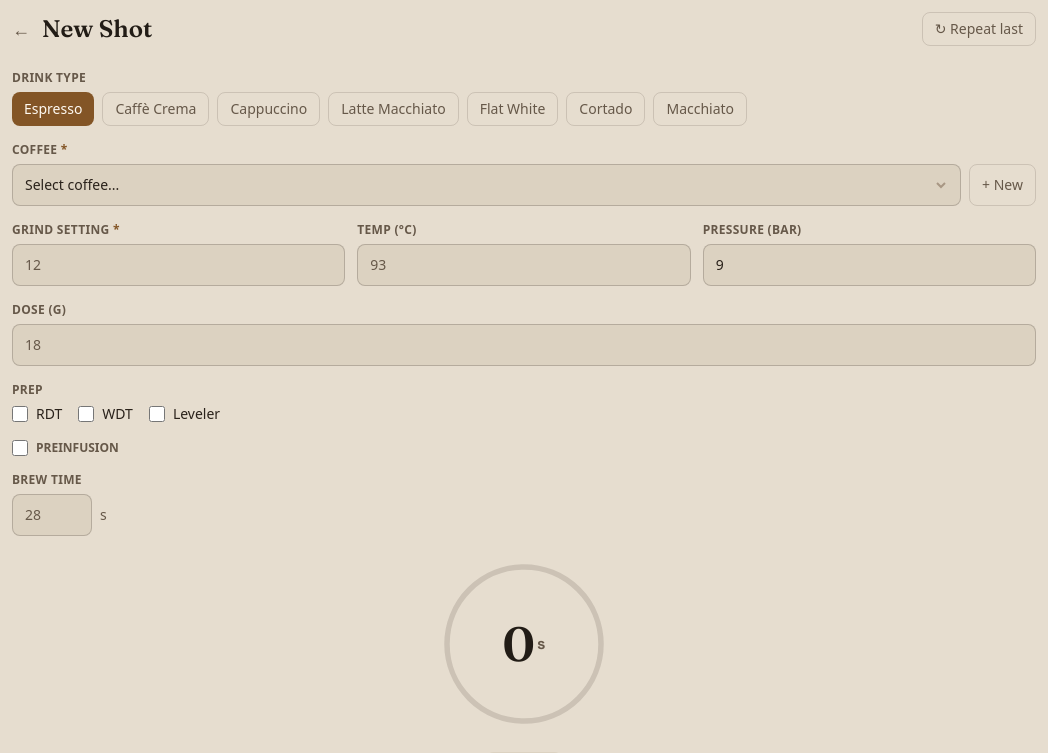
choosing a coffee prefills grind from that coffee last shot
Select "Kenya Kirinyaga / Five Elephant" in the dropdown at (487, 185), box x1=12 y1=164 x2=961 y2=206
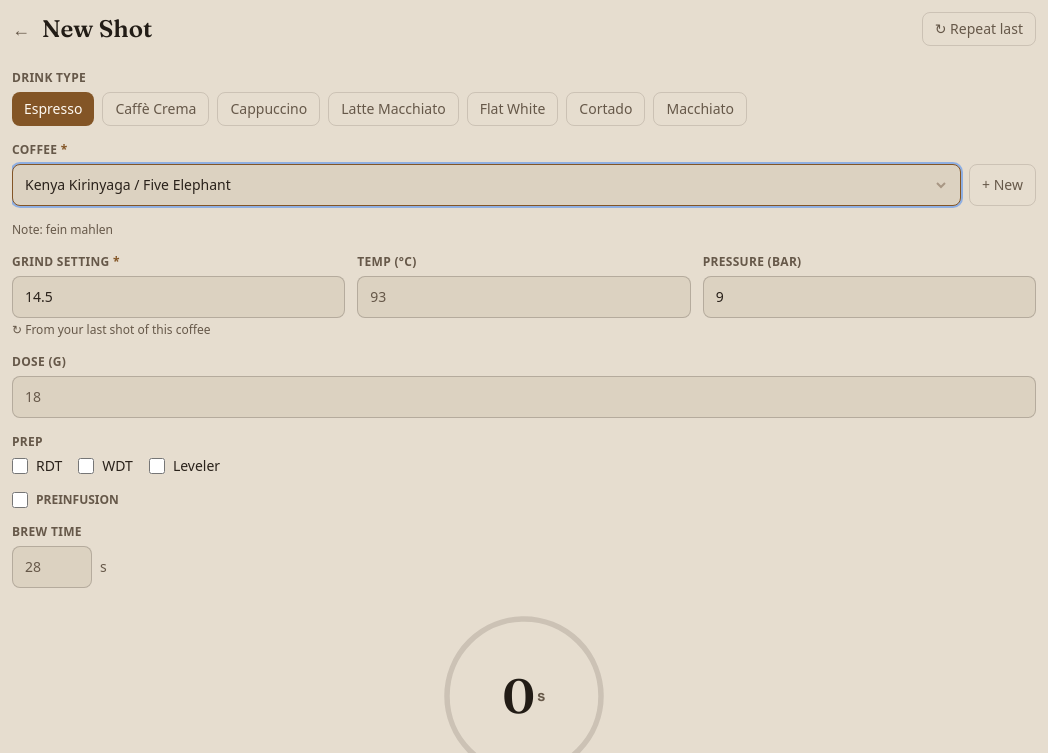
Expected: the number field with placeholder "12" below "Grind Setting" holds "14.5", x1=12 y1=276 x2=345 y2=318
Expected: the text "↻ From your last shot of this coffee" is shown, x1=12 y1=321 x2=210 y2=338
